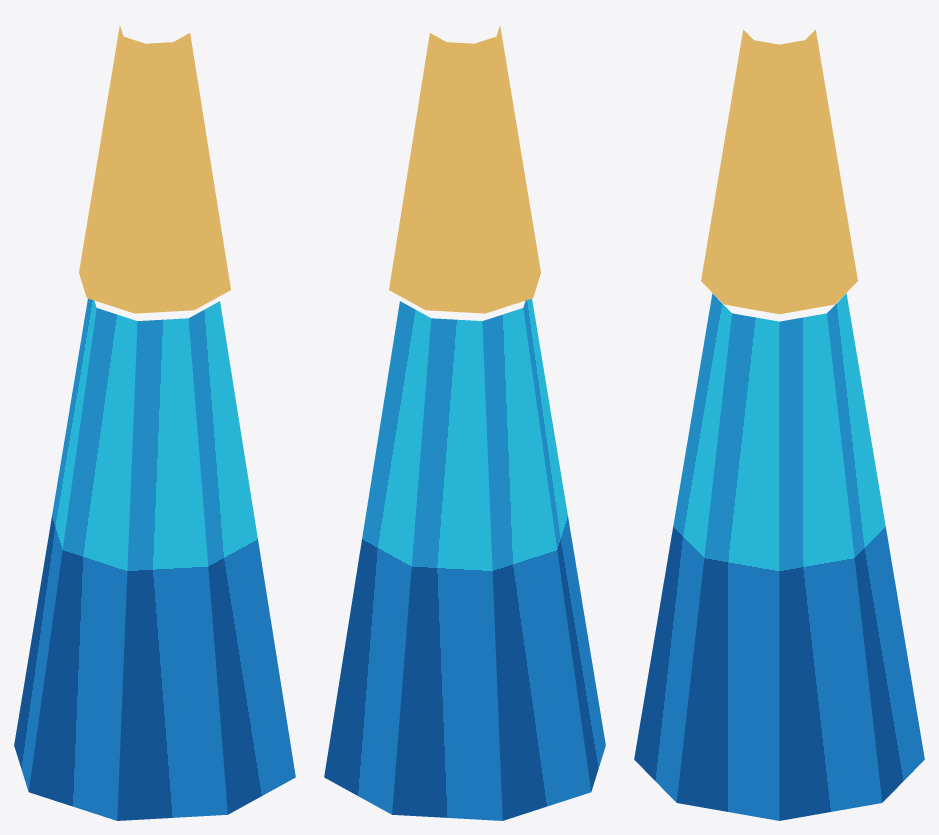
File: beacon_dual.gltf
The picture shows the model from 3 angles, left to right: view 1: azimuth 30°, elevation 25°; view 2: azimuth 150°, elevation 25°; view 3: azimuth 270°, elevation 25°; orthographic projection.
Parts seen in each view (by area): view 1: Signal Beacon; view 2: Signal Beacon; view 3: Signal Beacon.
Boxes of the visible parts, <box> form: Signal Beacon: <box>14,25,295,820</box>; Signal Beacon: <box>324,25,605,820</box>; Signal Beacon: <box>634,30,924,820</box>.
Size of the model in its own units: 1.3 by 3.6 by 1.3.
2 materials, 1 textured.
